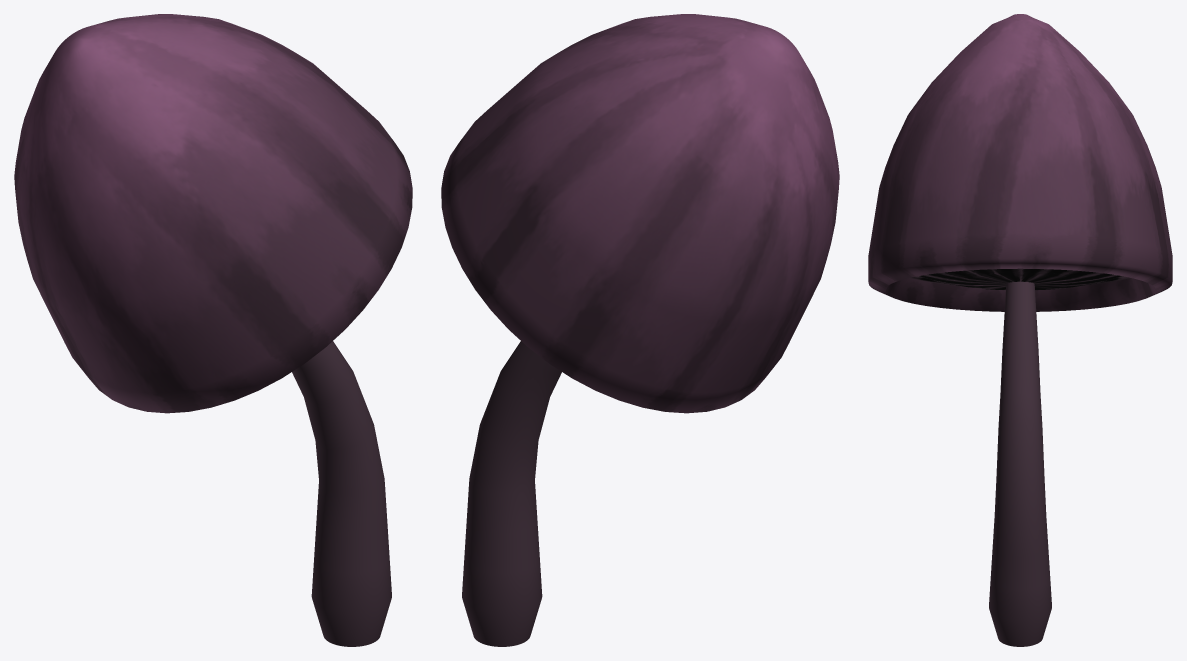
The model's file is lankyShroom_S_V2_Model.fbx.
The picture shows the model from 3 angles, left to right: view 1: azimuth 30°, elevation 25°; view 2: azimuth 150°, elevation 25°; view 3: azimuth 270°, elevation 25°; orthographic projection. The views are drawn at different scales.
Visible parts, largest first — view 1: lankyShroom_S_Model; view 2: lankyShroom_S_Model; view 3: lankyShroom_S_Model.
Part boxes in pixels (x1=…): lankyShroom_S_Model: x1=14, y1=14, x2=412, y2=646; lankyShroom_S_Model: x1=441, y1=14, x2=839, y2=646; lankyShroom_S_Model: x1=868, y1=14, x2=1172, y2=646.
Size of the model in its own units: 1.59 by 2.9 by 1.53.
Materials: 1 (1 with a texture image).
